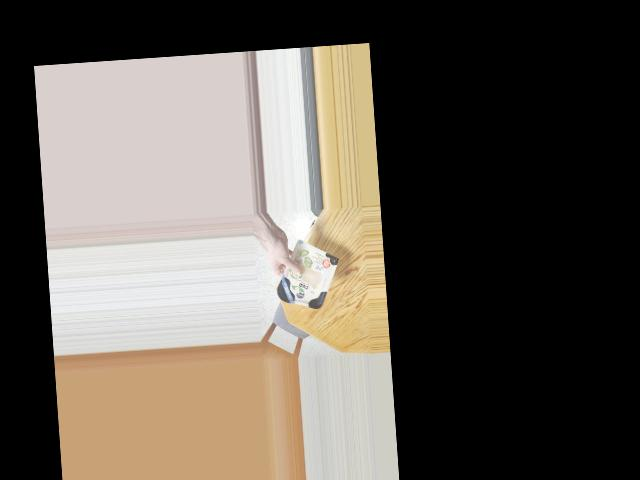cheese: (270, 244, 338, 312)
